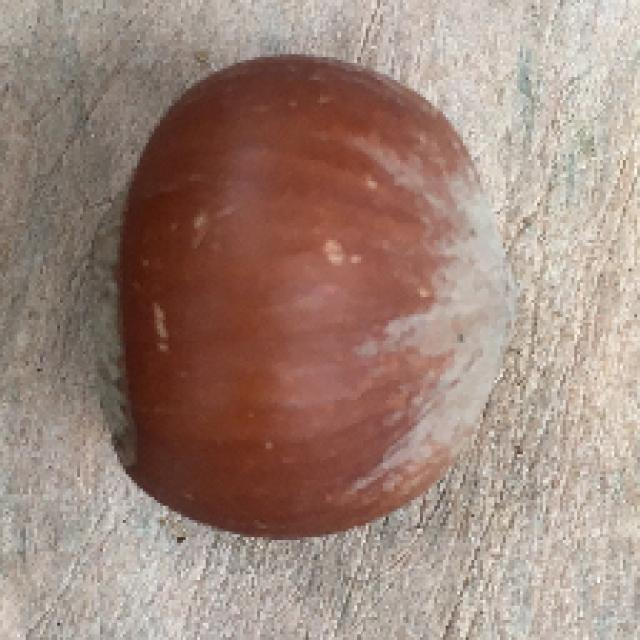QualityHazelnut: (84, 55, 506, 541)
